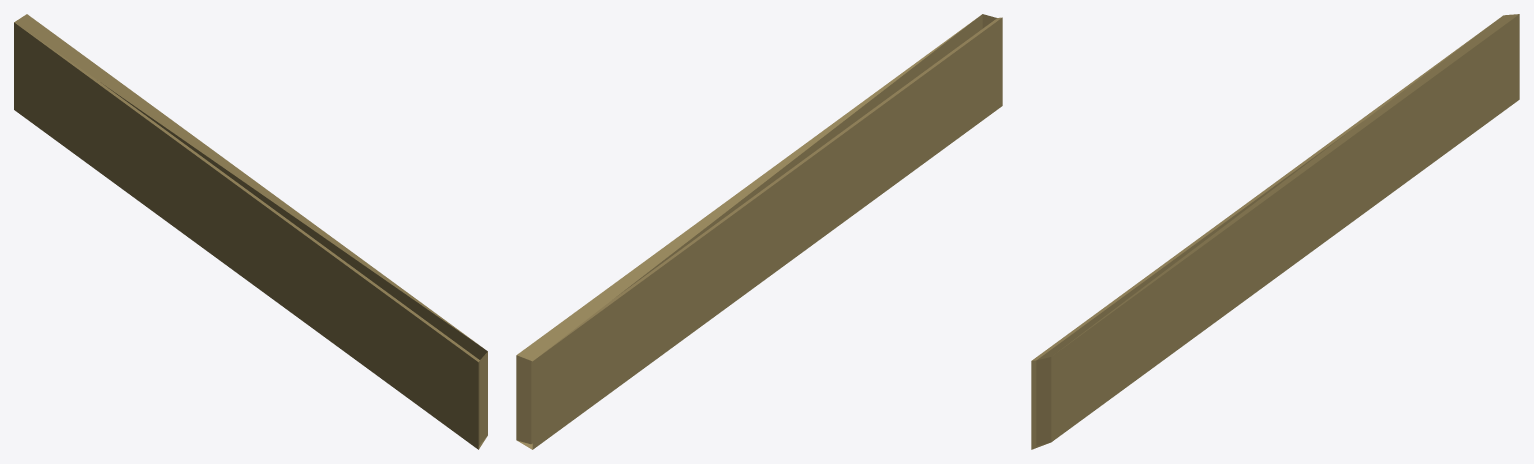
The model's file is original-19-left-collision.obj.
3 renders of one model, left to right at view 1: azimuth 30°, elevation 25°; view 2: azimuth 150°, elevation 25°; view 3: azimuth 330°, elevation 25°, orthographic.
Parts seen in each view (by area): view 1: #ID114; view 2: #ID114; view 3: #ID114.
Part boxes in pixels (x1=…): #ID114: x1=14, y1=14, x2=487, y2=449; #ID114: x1=516, y1=14, x2=1002, y2=449; #ID114: x1=1031, y1=14, x2=1519, y2=449.
Size of the model in its own units: 0.0158 by 0.0951 by 0.8802.
